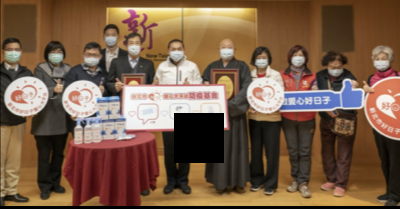with_mask: (373, 54, 391, 71), (4, 46, 20, 62), (169, 45, 184, 62), (127, 39, 141, 56), (327, 63, 344, 77), (85, 51, 100, 66), (220, 43, 234, 59), (49, 49, 63, 64), (291, 52, 305, 67), (105, 31, 118, 47), (255, 54, 268, 68)
